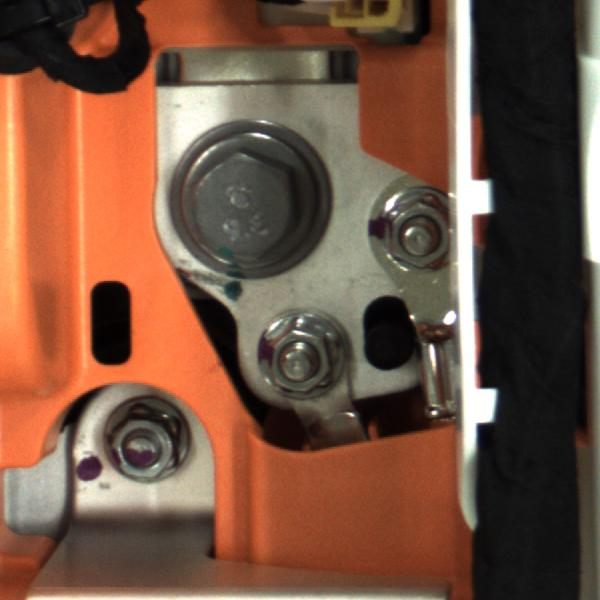nut_b: (156, 112, 333, 282)
screw_s: (92, 401, 201, 492), (251, 313, 370, 394), (367, 184, 454, 274)
